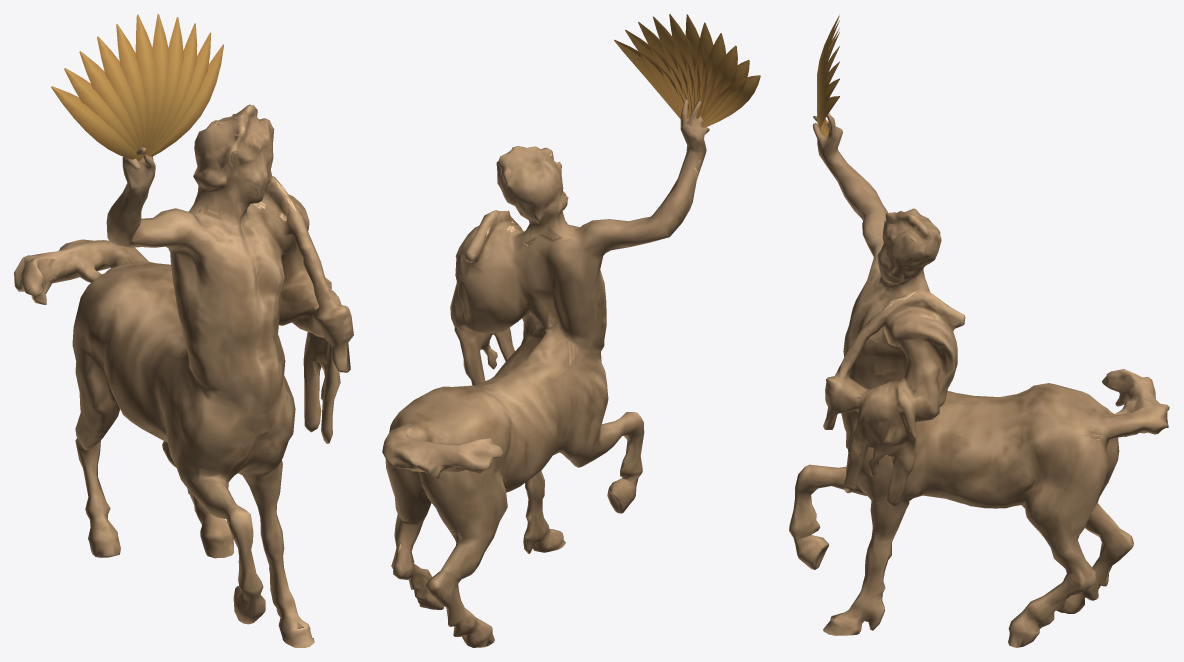
File: young-centaur.glb
3 renders of one model, left to right at view 1: azimuth 30°, elevation 25°; view 2: azimuth 150°, elevation 25°; view 3: azimuth 270°, elevation 25°, orthographic. The views are drawn at different scales.
Visible parts, largest first — view 1: Young Centaur; view 2: Young Centaur; view 3: Young Centaur.
Part boxes in pixels (x1=…): Young Centaur: x1=14, y1=14, x2=353, y2=647; Young Centaur: x1=382, y1=14, x2=760, y2=647; Young Centaur: x1=789, y1=14, x2=1169, y2=647.
Bounding box in the file's own units: 2.87 × 5.7 × 3.6.
Materials: 1 (1 with a texture image).
